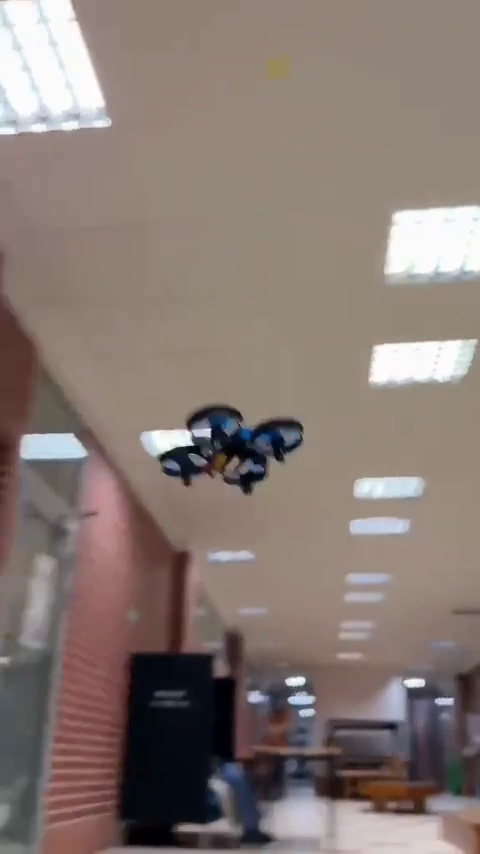drone: (155, 406, 304, 494)
